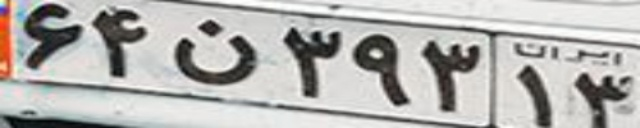1: (514, 63, 551, 125)
3: (418, 38, 481, 113), (280, 26, 343, 99), (572, 69, 632, 127)
4: (90, 4, 151, 78)
6: (21, 1, 83, 73)
9: (353, 33, 408, 106)
non: (168, 18, 260, 85)
